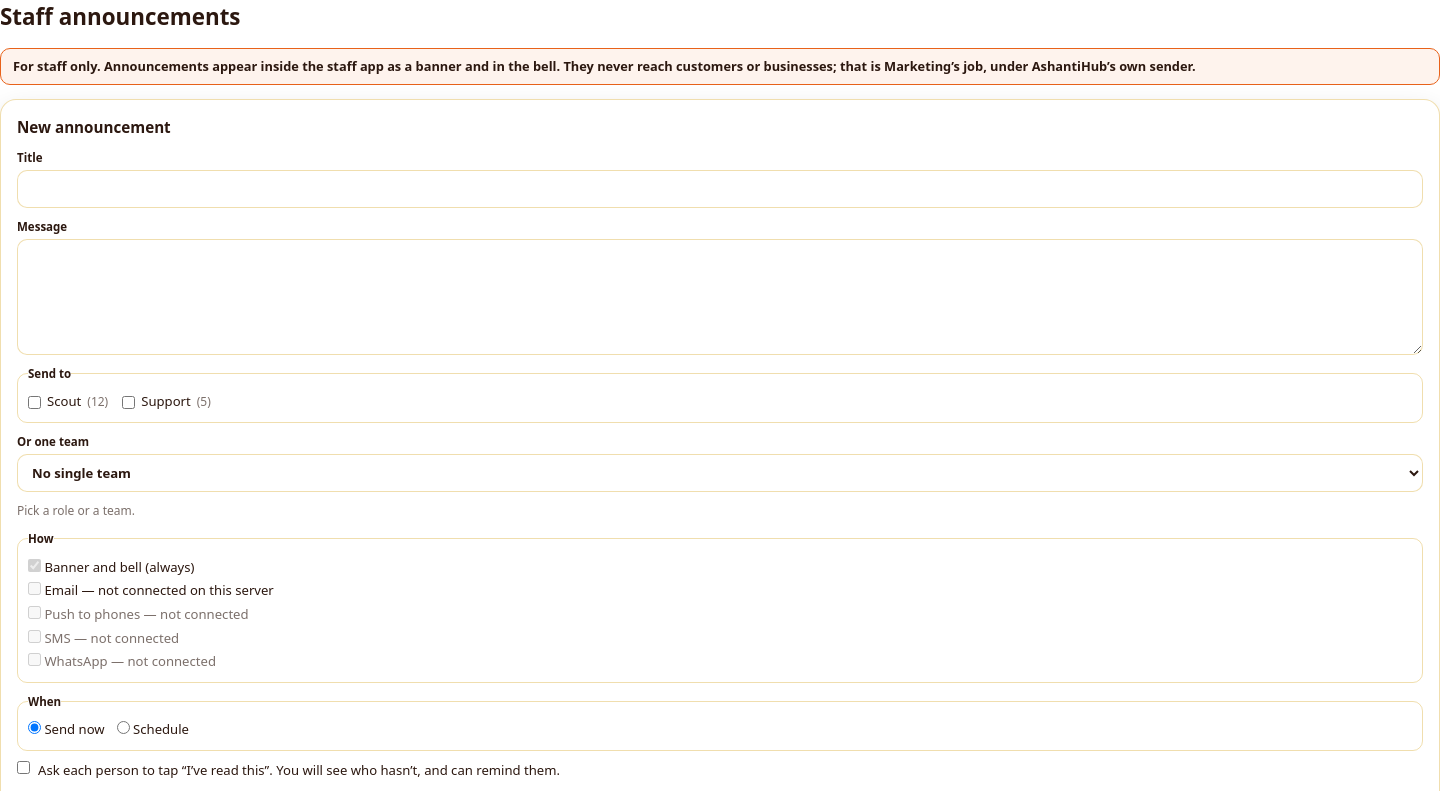
Scenario: StaffAnnouncementsPanel › sends an announcement to the chosen roles
The image size is (1440, 791).
Type "Hello" into the field labelled "Title" at x=720, y=189, box [17,170,1423,208]
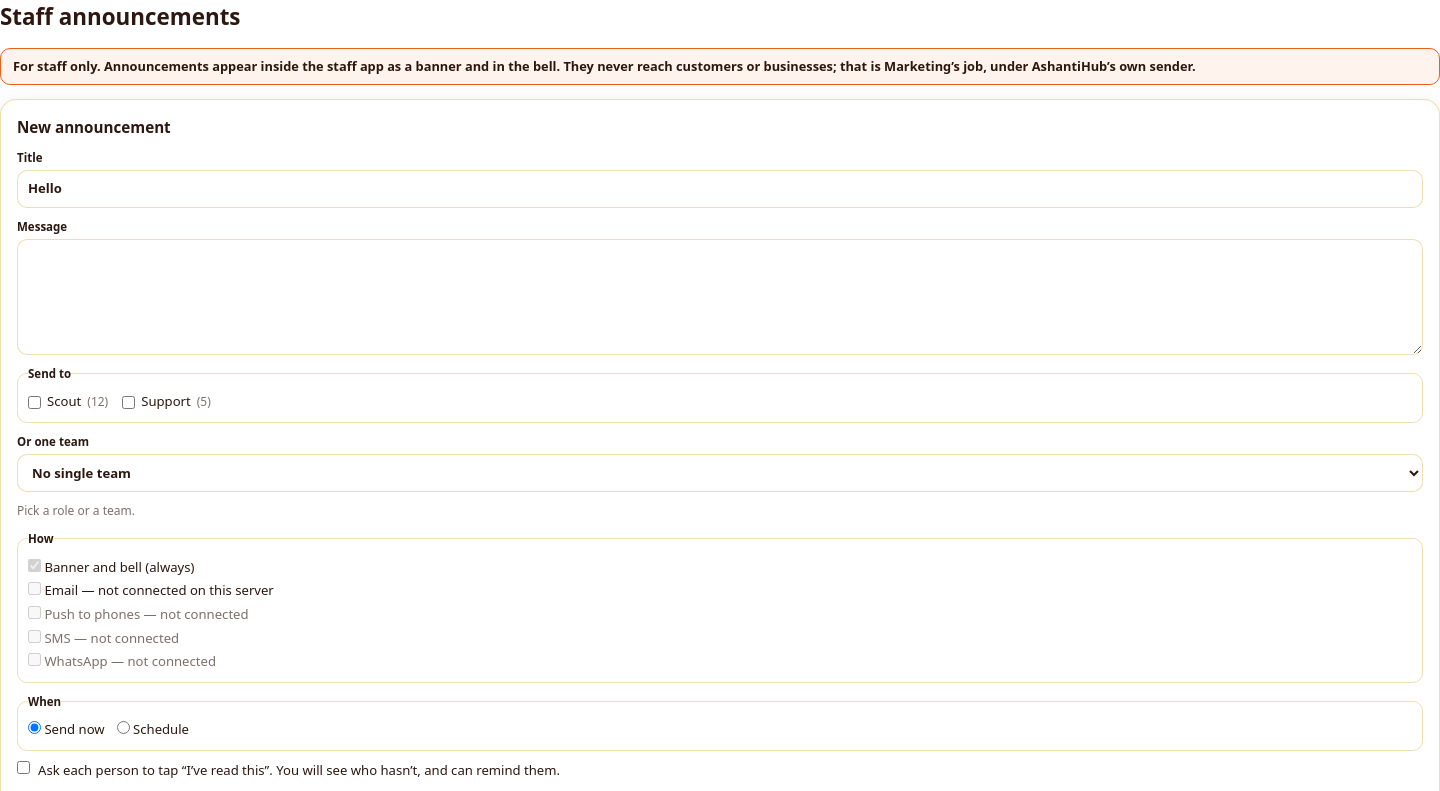
Type "Body text" into the text box labelled "Message" at x=720, y=297, box [17,239,1423,355]
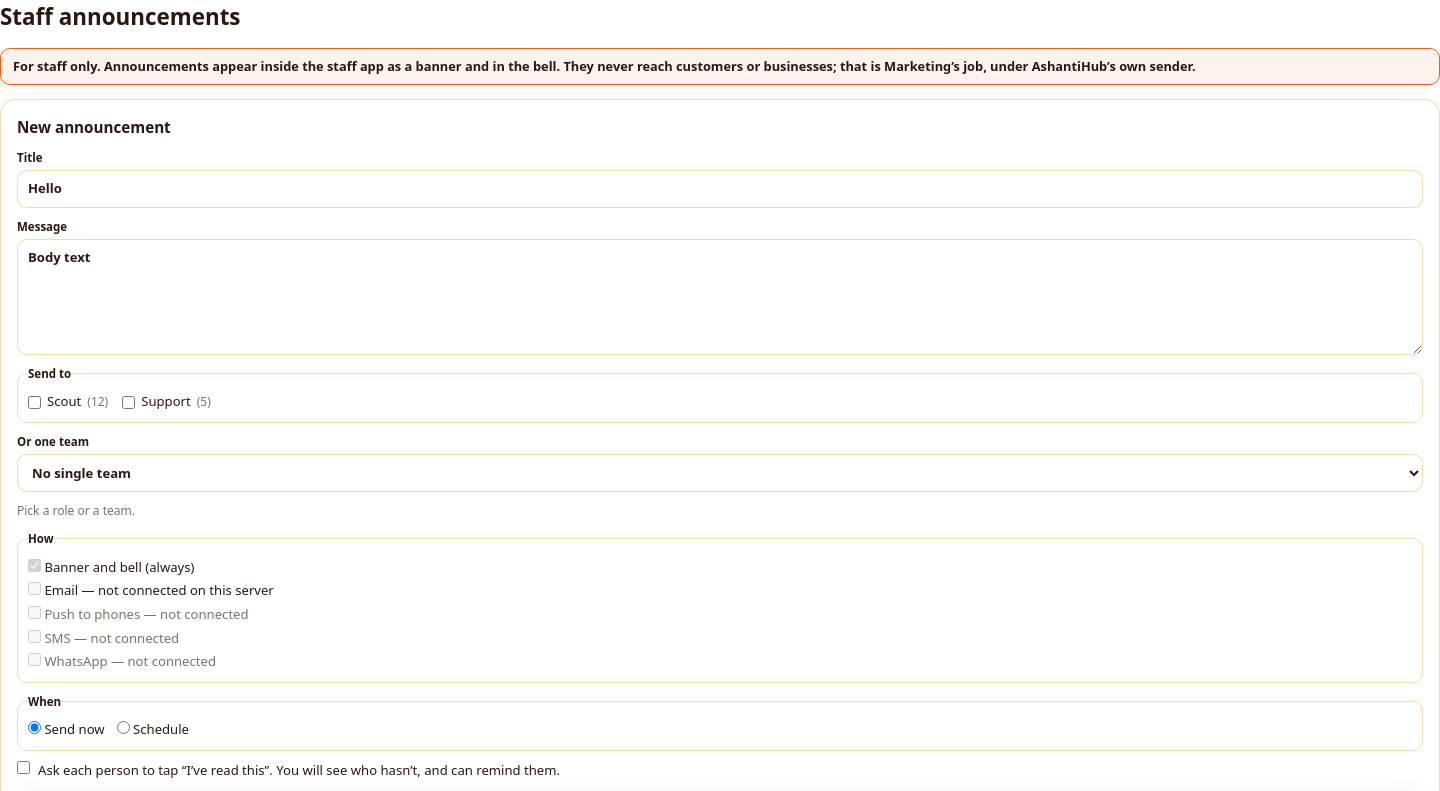
Click the checkbox labelled "Scout (12)" at x=34, y=402, box [28,396,41,409]
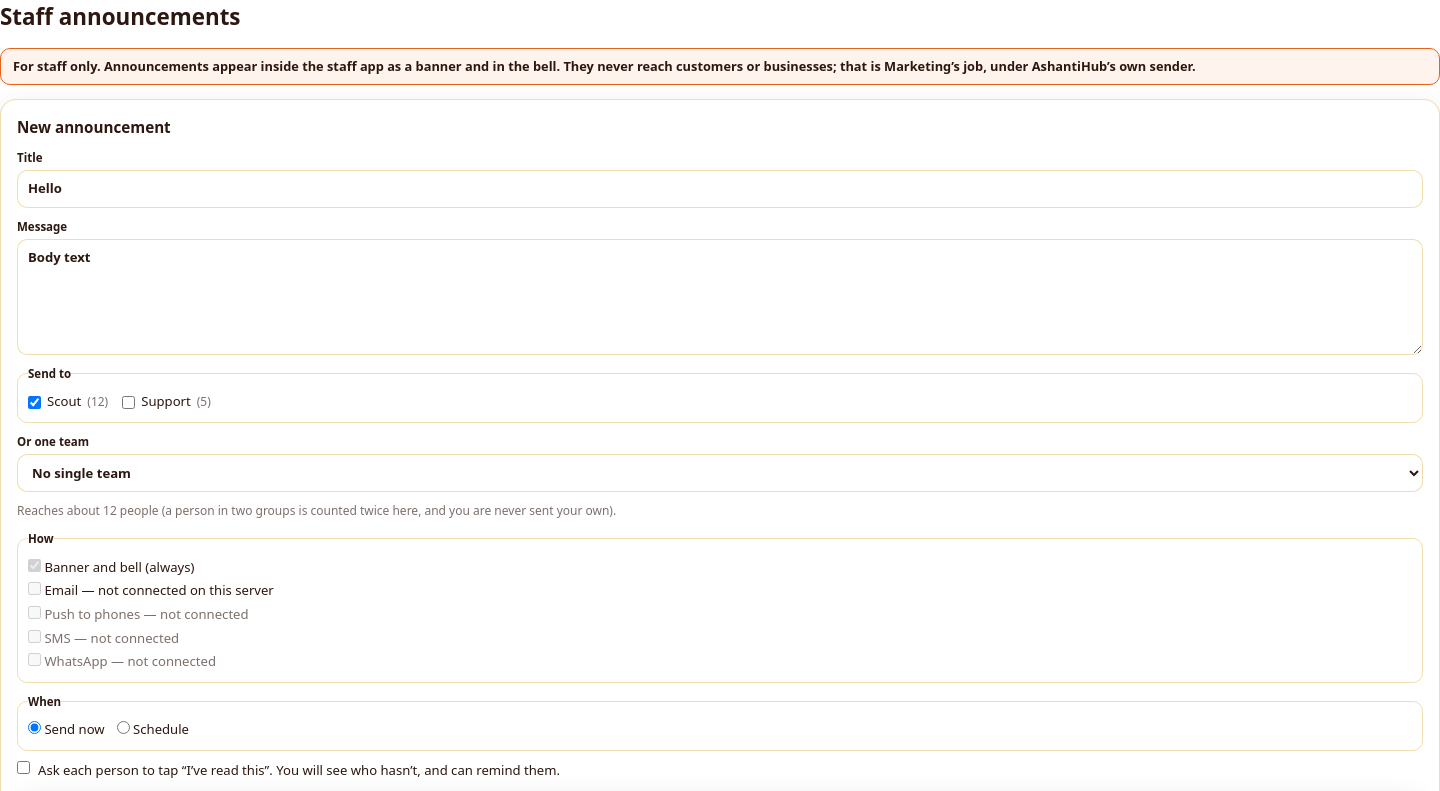
Click the checkbox labelled "Ask each person" at x=24, y=767, box [17,761,30,774]
(page scrolled)
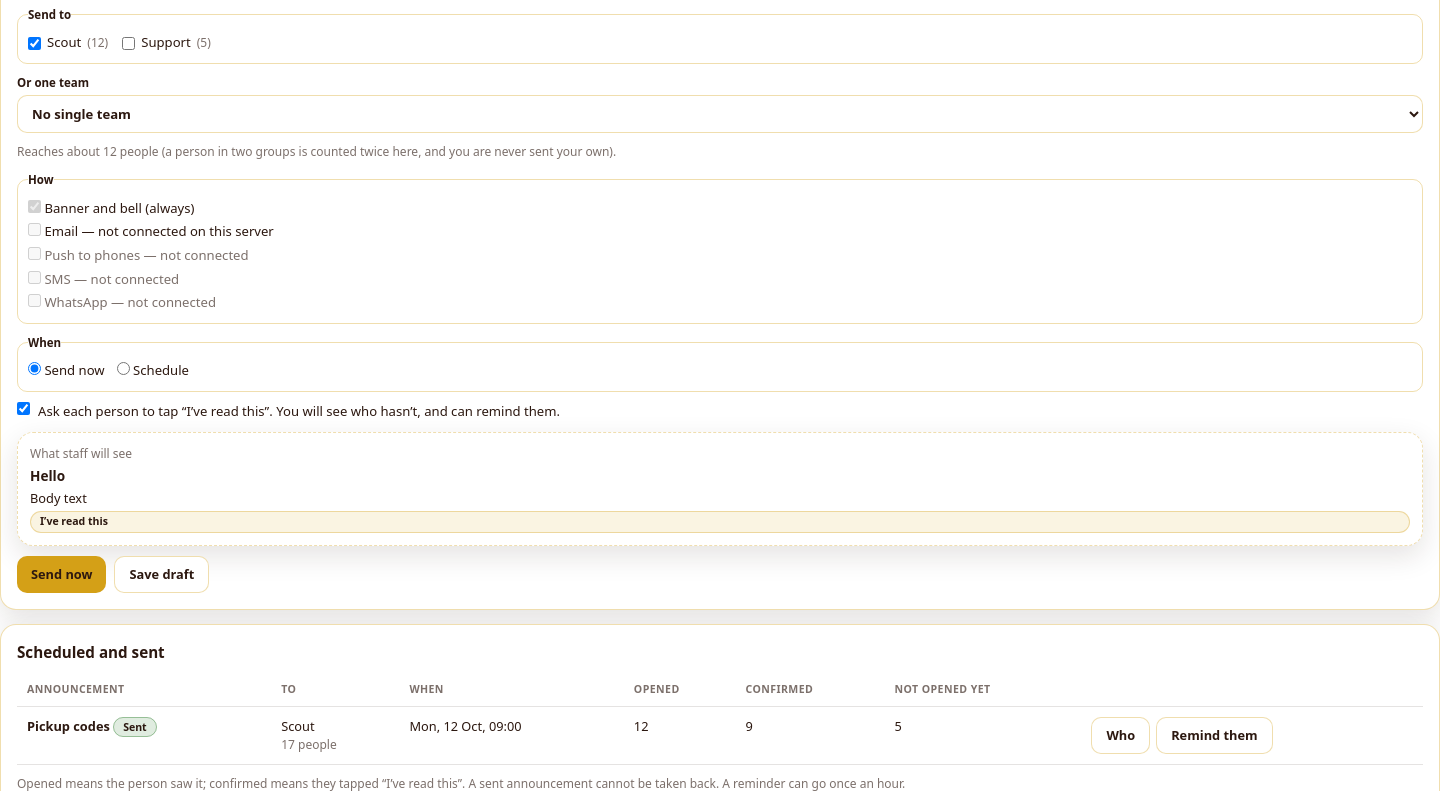
Expected: the element "What staff will see" shows "Hello", [30,466,65,485]
Click the button "Send now" at x=62, y=575, box [17,556,106,593]
(page scrolled)
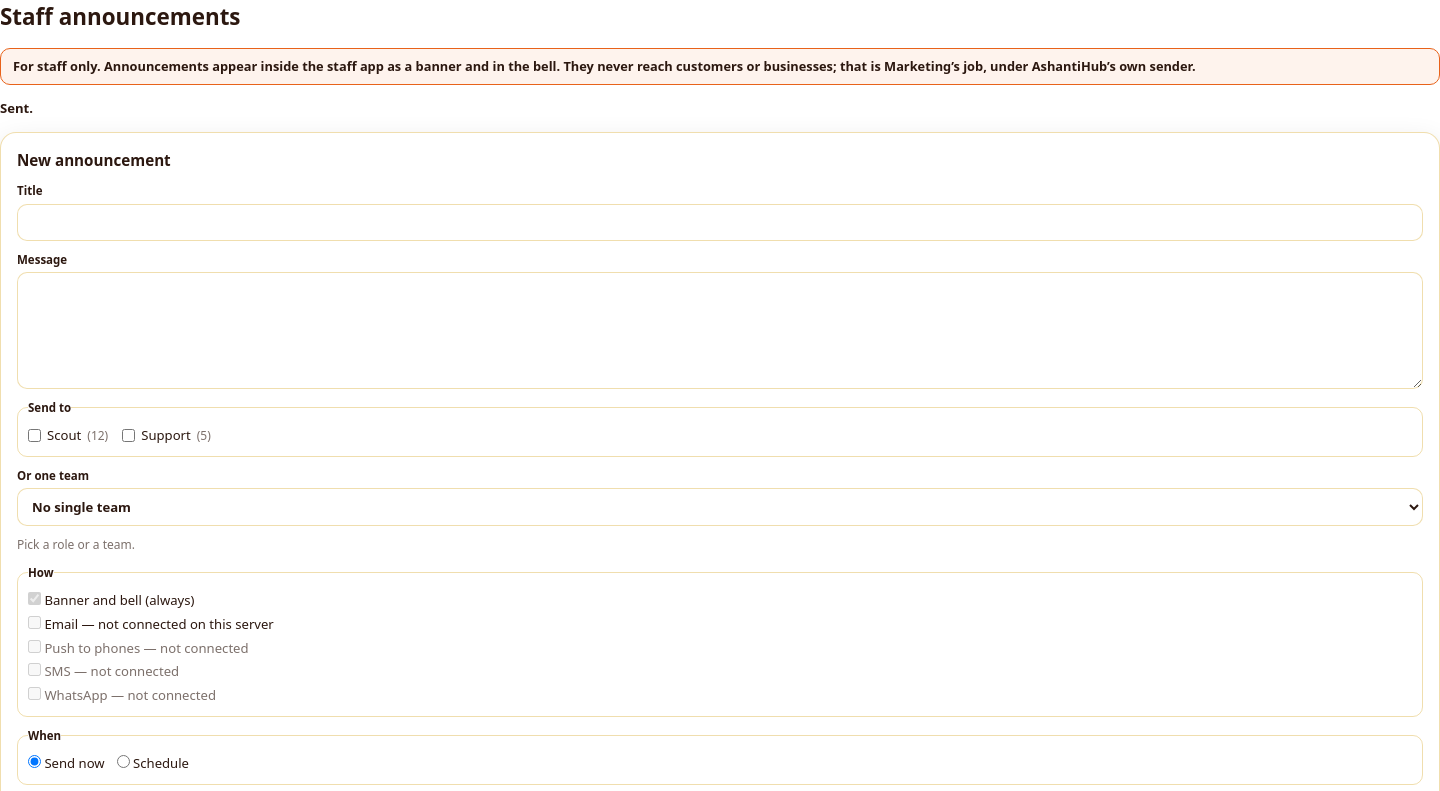
Expected: the text "Sent." is shown, [0,99,33,117]
